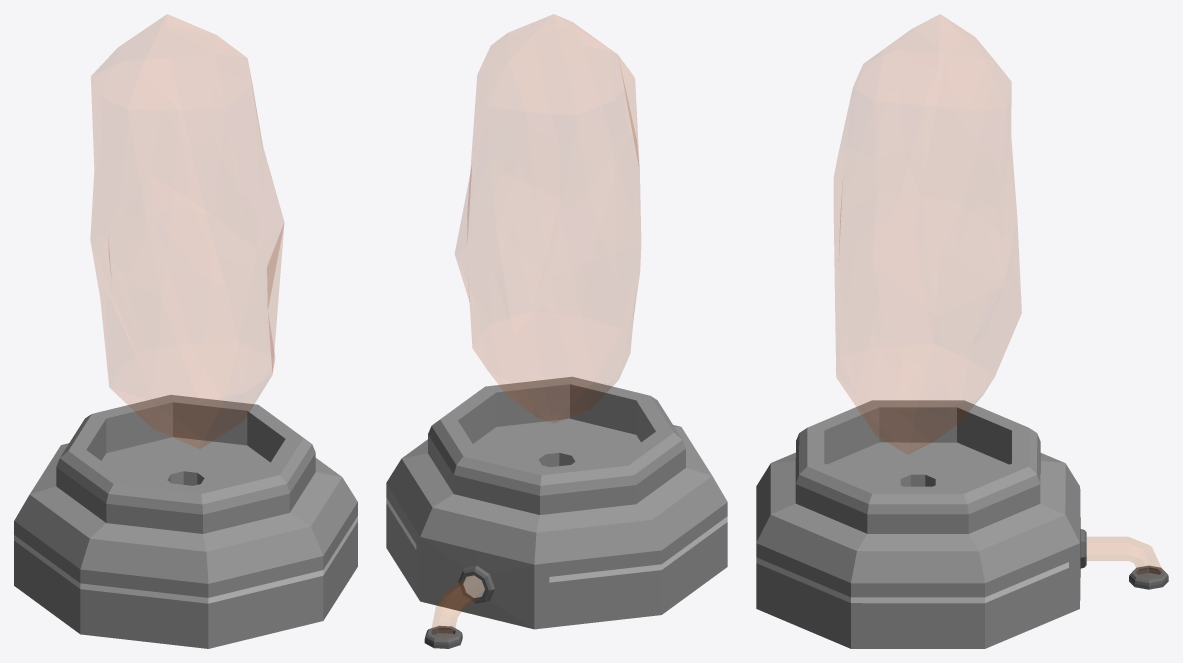
The model's file is encubadora2.fbx.
3 renders of one model, left to right at view 1: azimuth 30°, elevation 25°; view 2: azimuth 150°, elevation 25°; view 3: azimuth 270°, elevation 25°, orthographic.
Parts seen in each view (by area): view 1: Cylinder, Icosphere; view 2: Cylinder, Icosphere; view 3: Cylinder, Icosphere.
Boxes of the visible parts, left/top/right/bottom form: Cylinder: left=14, top=394, right=357, bottom=648; Icosphere: left=91, top=14, right=283, bottom=448; Cylinder: left=386, top=376, right=727, bottom=648; Icosphere: left=455, top=14, right=640, bottom=422; Cylinder: left=756, top=400, right=1168, bottom=648; Icosphere: left=834, top=14, right=1021, bottom=453.
Size of the model in its own units: 442 by 847 by 562.
